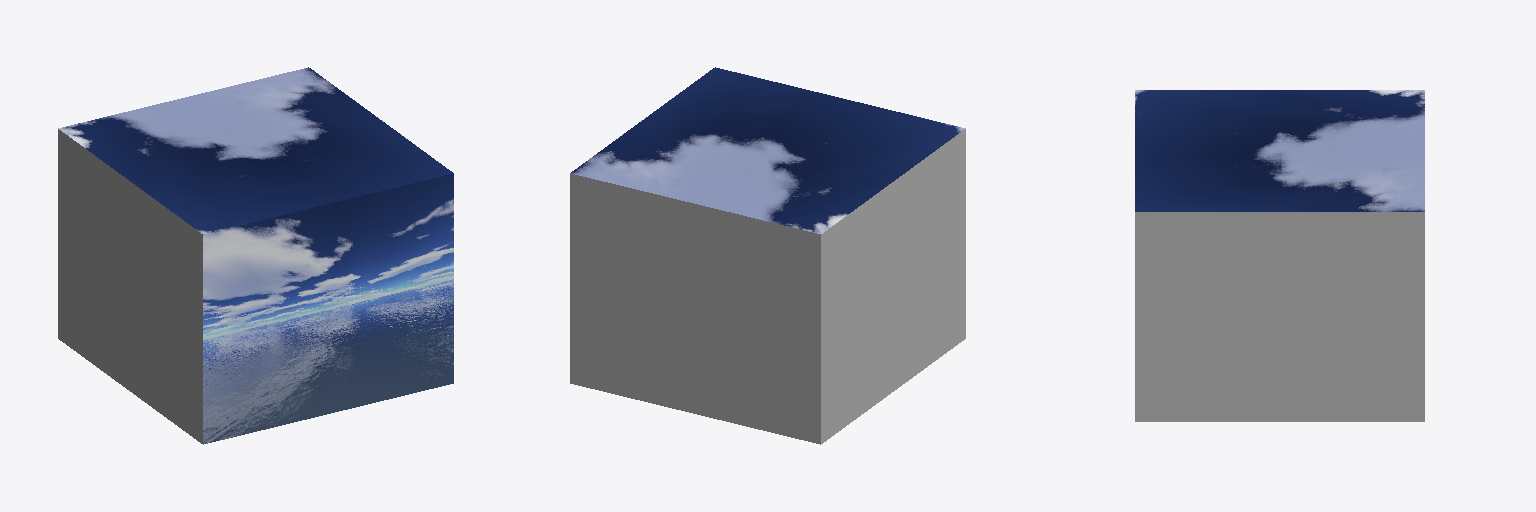
The picture shows the model from 3 angles: view 1: azimuth 30°, elevation 25°; view 2: azimuth 150°, elevation 25°; view 3: azimuth 270°, elevation 25°; orthographic projection.
Size of the model in its own units: 2 by 1.6 by 2.
Materials: 6 (3 with a texture image).